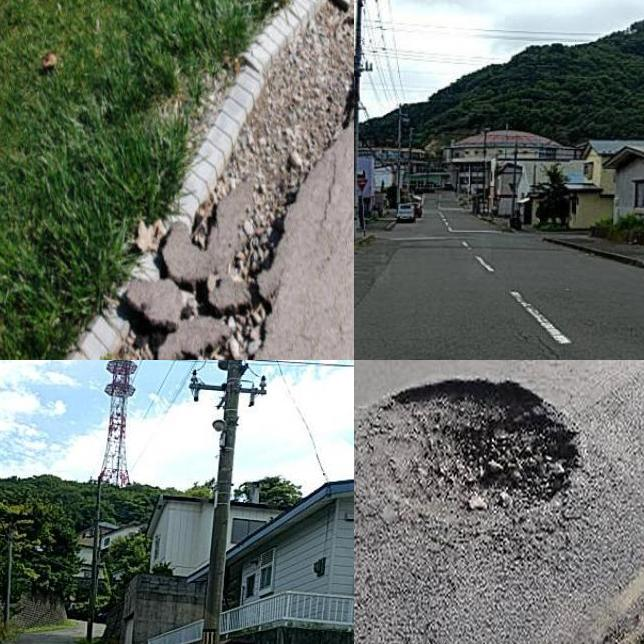Lubang: (361, 381, 575, 516)
Pinggir: (16, 0, 354, 360)
